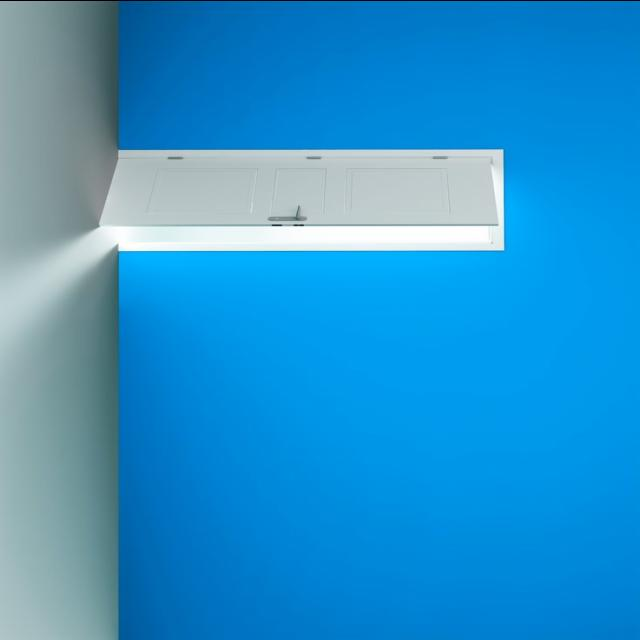open: (107, 148, 504, 250)
